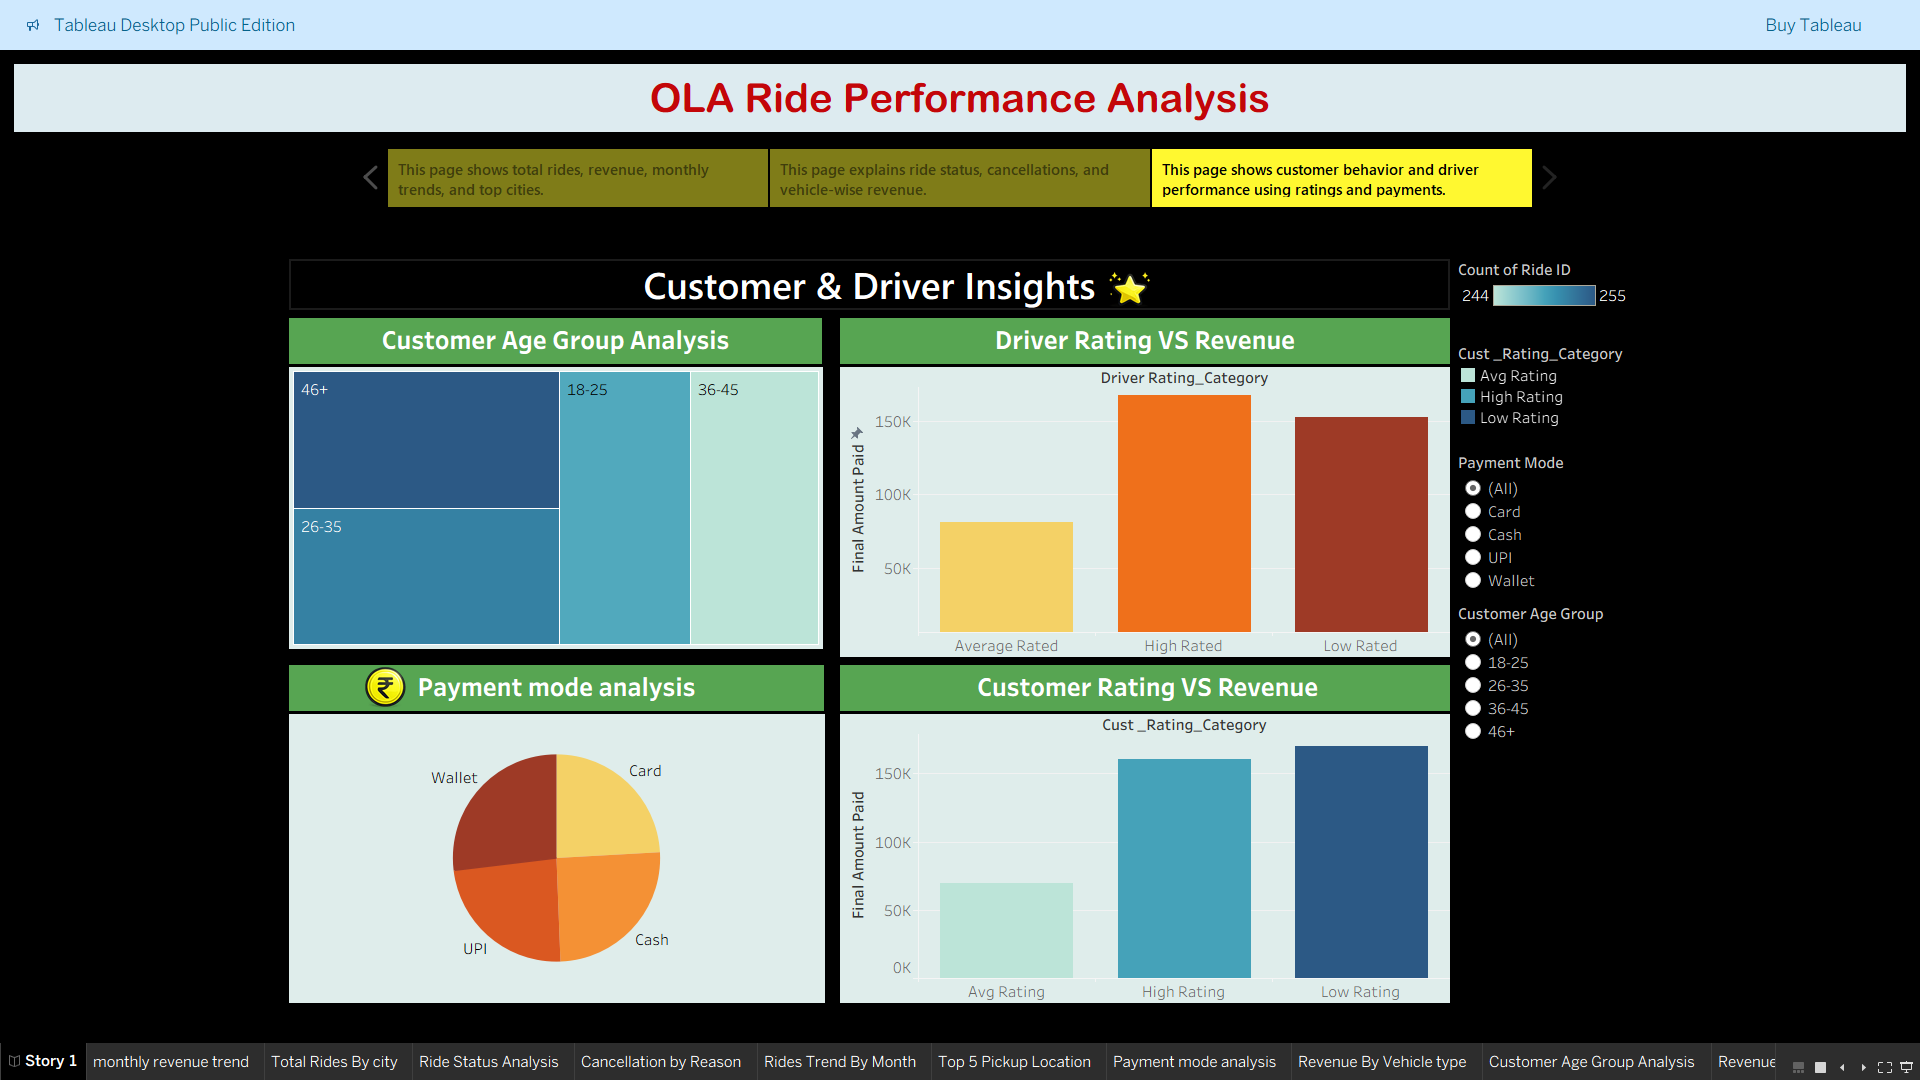

What the dashboard file says about the page in this screenshot:
{"tool":"tableau","page":{"name":"Dashboard 3","canvas":[1366,768],"ordinal":1},"visuals":[{"type":"title","box":[8,8,1169,59]},{"type":"legend","title":"Customer Age Group Analysis","param":"[federated.15s8yxy0pkkmwh123sj3a1ppizpt].[cnt:Ride_ID:qk]","box":[1177,8,181,84]},{"type":"image","param":"Image/ChatGPT Image Jan 23, 2026, 10_05_11 PM (5).png","box":[825,9,70,60]},{"type":"worksheet","title":"Customer Age Group Analysis","mark":"Automatic","box":[8,67,551,347]},{"type":"worksheet","title":"Driver Rating VS Revenue","mark":"Bar","rows":["Final_Amount_Paid"],"cols":["Calculation_1674311929700355"],"box":[559,67,618,347]},{"type":"legend","title":" Customer Rating VS Revenue","param":"[federated.15s8yxy0pkkmwh123sj3a1ppizpt].[none:Calculation_1674311920123906:nk]","box":[1177,92,181,109]},{"type":"image","param":"Image/ChatGPT Image Jan 23, 2026, 10_05_11 PM (4).png","box":[671,101,65,46]},{"type":"filter","title":"Payment mode analysis","param":"[federated.15s8yxy0pkkmwh123sj3a1ppizpt].[none:Payment_Mode:nk]","box":[1177,201,181,151]},{"type":"filter","title":"Customer Age Group Analysis","param":"[federated.15s8yxy0pkkmwh123sj3a1ppizpt].[none:Customer_Age_Group:nk]","box":[1177,352,181,151]},{"type":"image","param":"Image/ChatGPT Image Jan 23, 2026, 10_05_11 PM (9) 1.png","box":[78,409,87,57]},{"type":"worksheet","title":"Payment mode analysis","mark":"Pie","box":[8,414,551,346]},{"type":"worksheet","title":" Customer Rating VS Revenue","mark":"Bar","rows":["Final_Amount_Paid"],"cols":["Calculation_1674311920123906"],"box":[559,414,618,346]}]}

Visuals, with their boxes on the page's 1366x768 design canvas (x1, y1, x2, y2). These are canvas units, not pixel positions in the 1920x1080 screenshot, which may show the page scaled, cropped or inside an application window:
title: box=[8, 8, 1177, 67]
"Customer Age Group Analysis" legend: box=[1177, 8, 1358, 92]
image: box=[825, 9, 895, 69]
"Customer Age Group Analysis" worksheet: box=[8, 67, 559, 414]
"Driver Rating VS Revenue" worksheet (Bar marks): box=[559, 67, 1177, 414]
" Customer Rating VS Revenue" legend: box=[1177, 92, 1358, 201]
image: box=[671, 101, 736, 147]
"Payment mode analysis" filter: box=[1177, 201, 1358, 352]
"Customer Age Group Analysis" filter: box=[1177, 352, 1358, 503]
image: box=[78, 409, 165, 466]
"Payment mode analysis" worksheet (Pie marks): box=[8, 414, 559, 760]
" Customer Rating VS Revenue" worksheet (Bar marks): box=[559, 414, 1177, 760]
